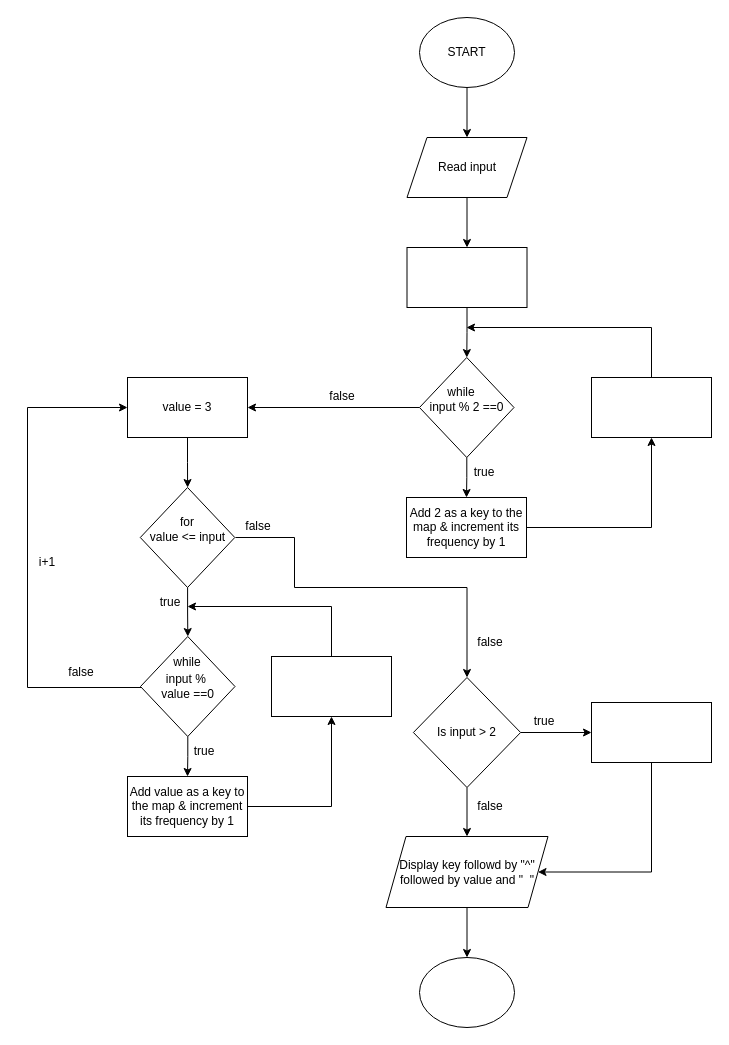
Image size: 729x1045. Some labels were removed from this diagram. The centre of each missing label's shape, as x and y in pixels:
"Add input as a key & frequency of 1" belongs at [651,732].
"Declare HashMap with <Integer,Integer>" belongs at [466,277].
"input = input / 2" belongs at [651,407].
"input = input / value" belongs at [331,686].
"STOP" belongs at [466,992].
